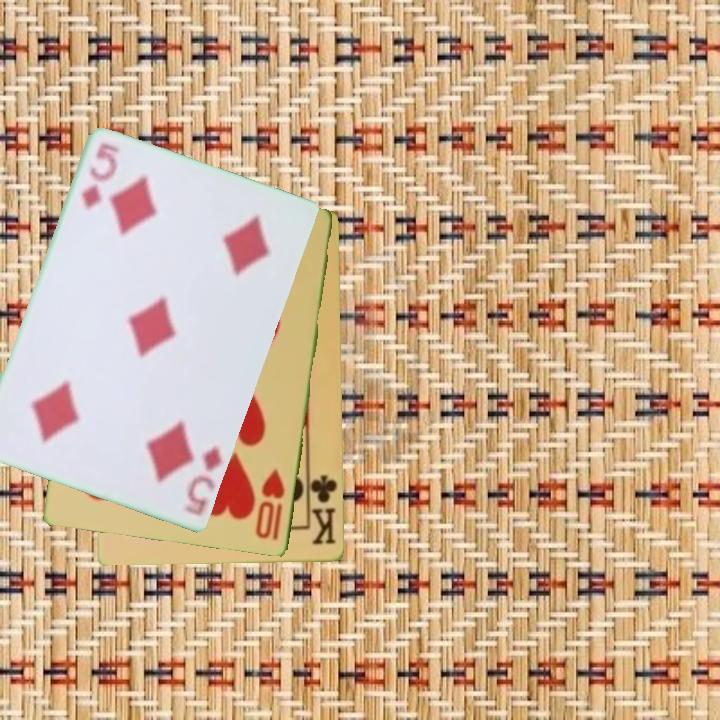10h: (252, 465, 288, 543)
5d: (184, 441, 226, 519), (78, 140, 119, 213)
Kc: (306, 468, 340, 547)
